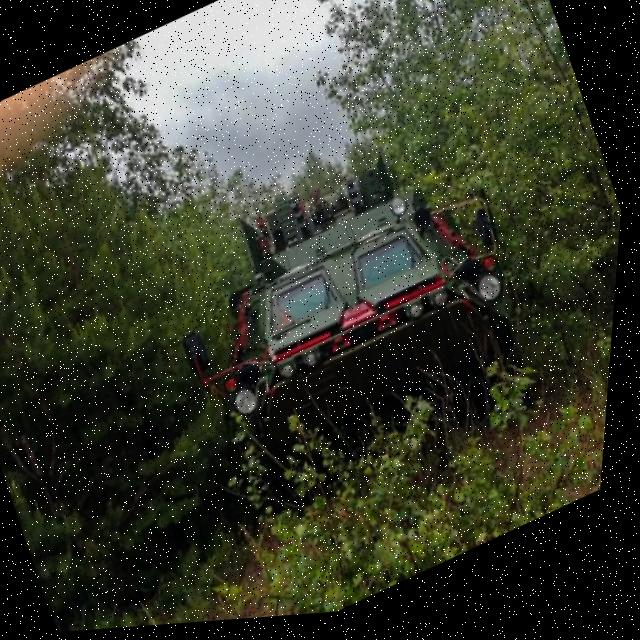MIL_APC: (151, 110, 621, 559)
